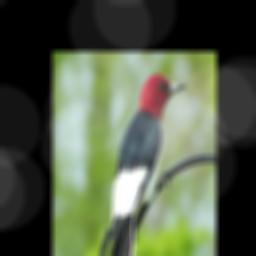Woodpecker: (103, 72, 188, 256)
